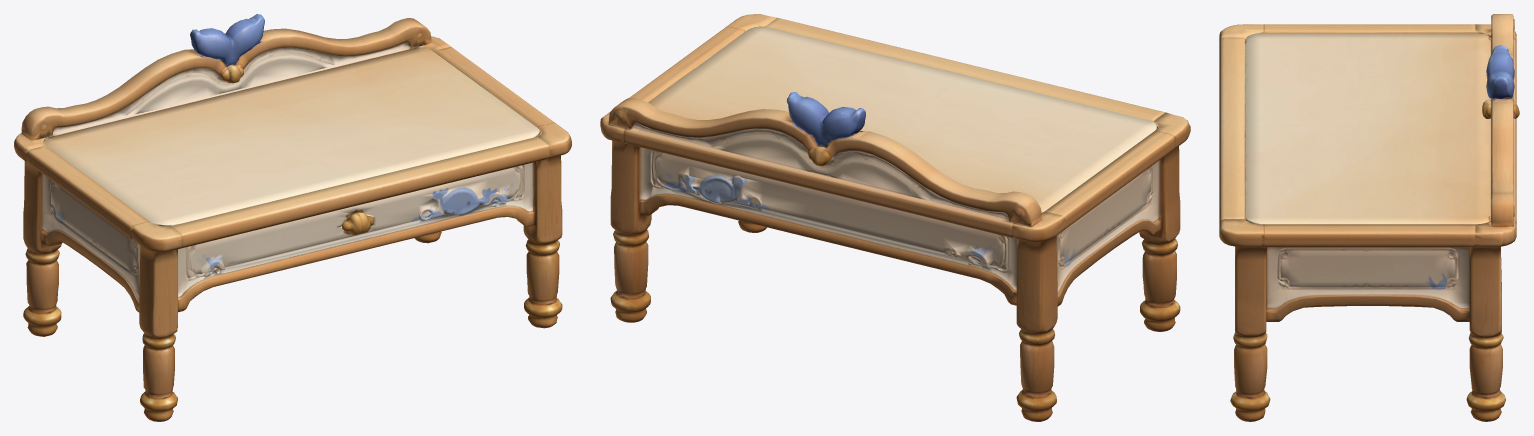
The model's file is whale-desk-v1.glb.
The picture shows the model from 3 angles, left to right: view 1: azimuth 30°, elevation 25°; view 2: azimuth 150°, elevation 25°; view 3: azimuth 270°, elevation 25°; orthographic projection. The views are drawn at different scales.
Visible parts, largest first — view 1: whale-desk-v1; view 2: whale-desk-v1; view 3: whale-desk-v1.
Part boxes in pixels (box(x1,y1,x2,y2)): whale-desk-v1: box(14, 14, 571, 421); whale-desk-v1: box(600, 14, 1190, 421); whale-desk-v1: box(1219, 14, 1519, 421).
Bounding box in the file's own units: 1.25 × 0.7216 × 0.751.
1 material, 1 textured.
